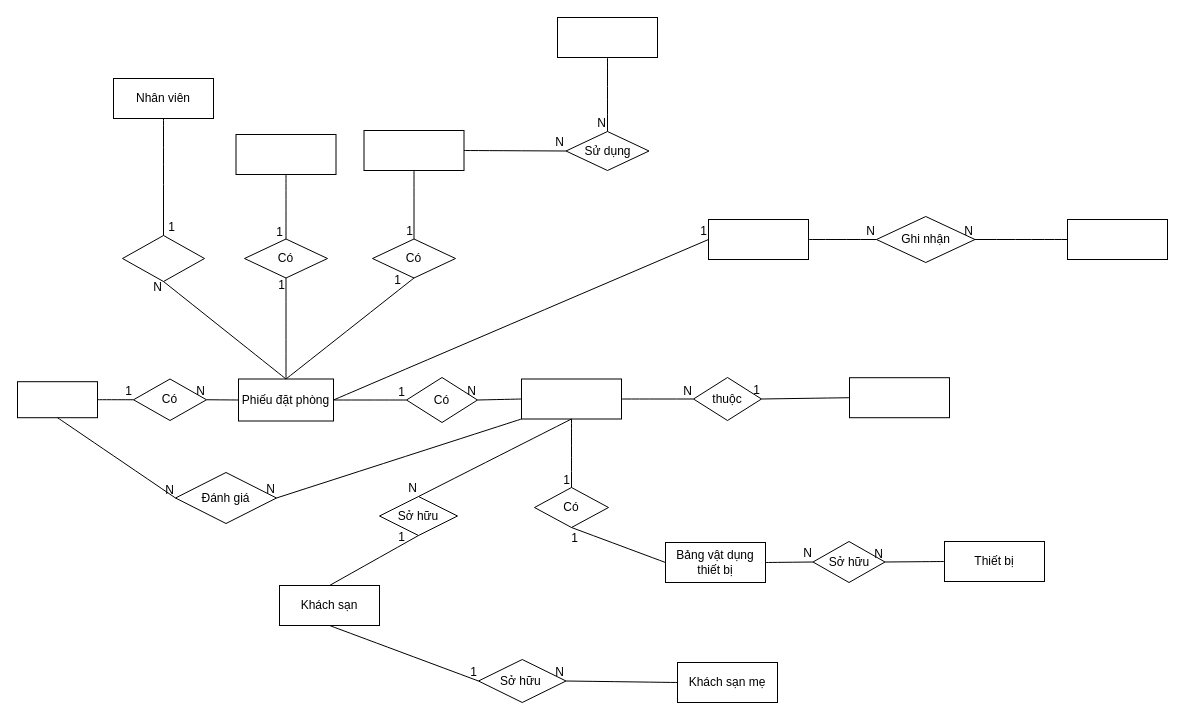
Image size: 1185x720. Some labels were removed from this diagram. The box of each missing label's shape, as (x1, y1, x2, y2) in pixels:
Dịch vụ: (556, 16, 658, 58)
Hóa đơn dịch vụ: (363, 130, 464, 170)
Hóa đơn phòng: (235, 134, 336, 174)
Khách hàng: (16, 381, 98, 418)
Loại phòng: (848, 377, 950, 418)
Phiếu sự cố: (708, 218, 808, 260)
Phòng: (520, 378, 622, 419)
Sự cố: (1066, 218, 1168, 260)
Tạo phiếu: (122, 234, 204, 282)
